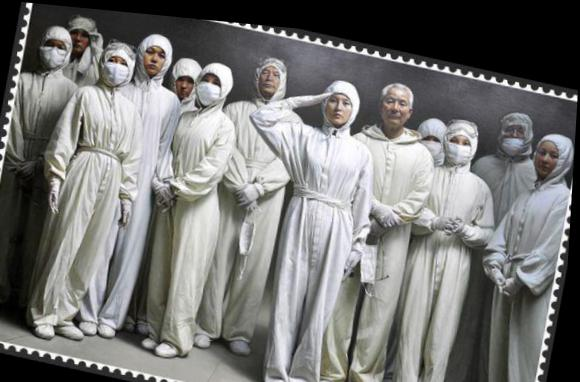NONE: (382, 84, 415, 123), (537, 133, 565, 167), (328, 89, 357, 120), (143, 40, 170, 73), (69, 27, 94, 54), (260, 62, 284, 90), (176, 70, 197, 96)
OK: (194, 69, 227, 104), (41, 39, 71, 71), (446, 125, 476, 157), (103, 52, 132, 85), (423, 124, 447, 151)
WRONG: (501, 112, 532, 145)
